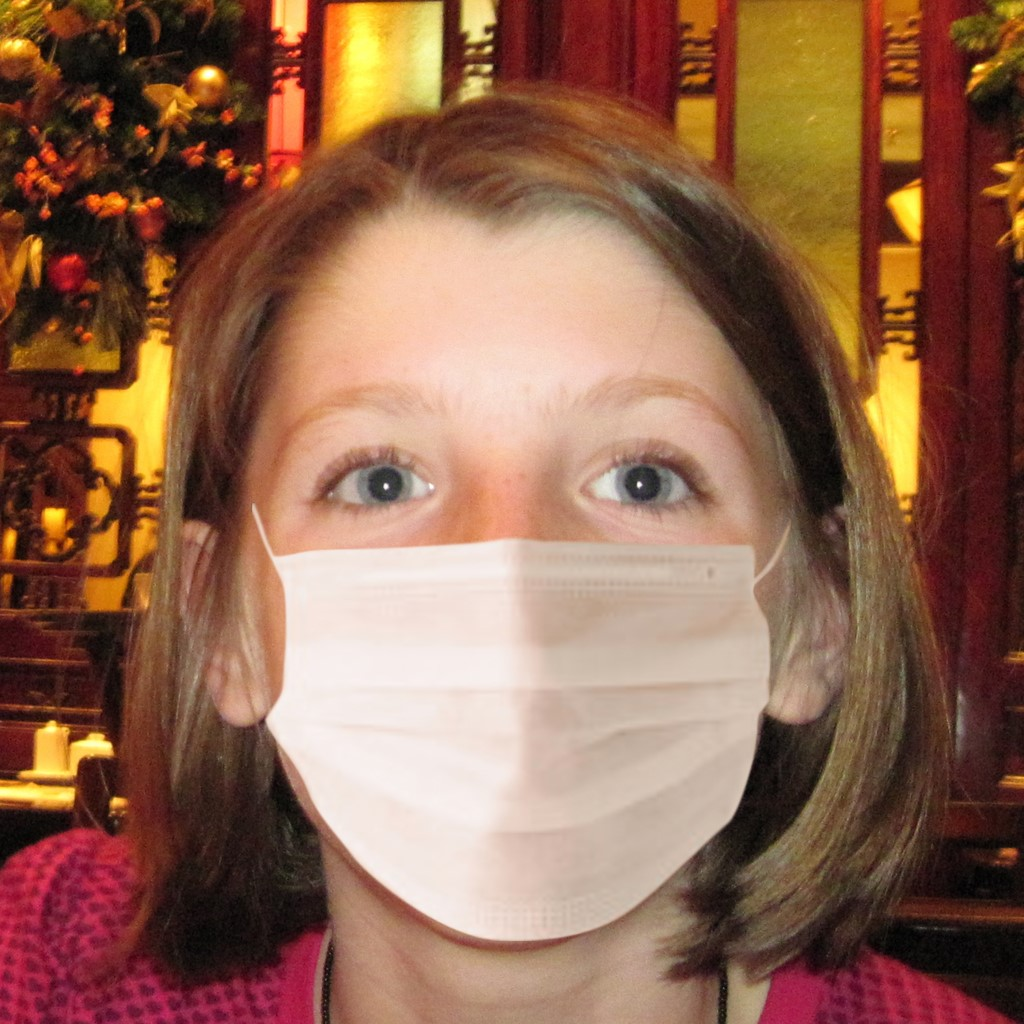con_mascara: (211, 223, 820, 939)
